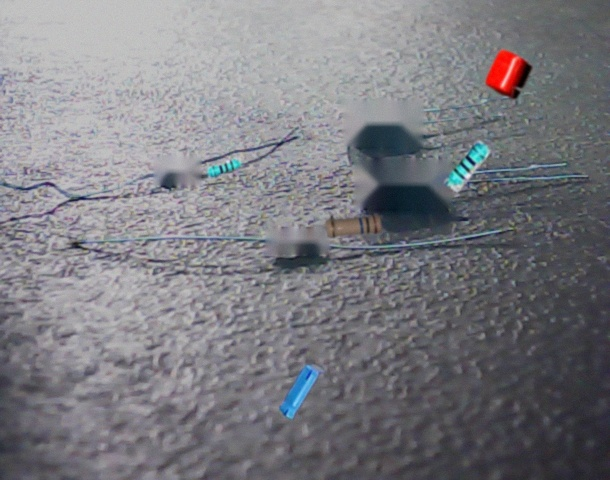capacitor: (279, 363, 325, 420), (485, 49, 533, 99)
resistor: (444, 139, 492, 193), (325, 214, 383, 239), (206, 155, 243, 179)
